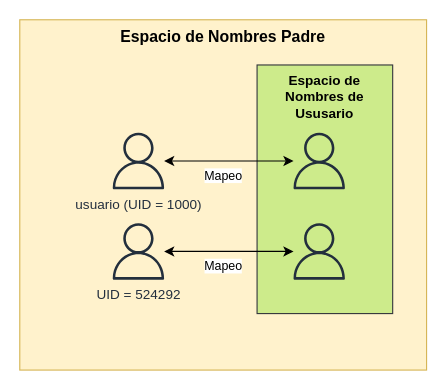
Image size: 446x390. Some labels were removed from this diagram. Here are the shapes that lost their labels. From the top down, the box of each, then its label:
(290, 132, 347, 189): root (UID = 0)
(290, 223, 347, 279): sync (UID = 5)
